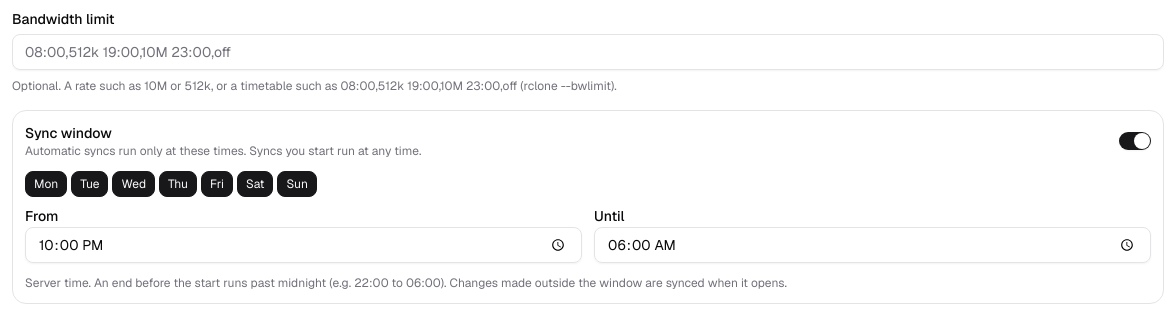
it: SyncLimitsFields sync window › refuses a window that starts when it ends
This screenshot has width=1176, height=321.
Replace the text in the time field labelled "From" with "06:00": (304,245) [25,227,582,263]
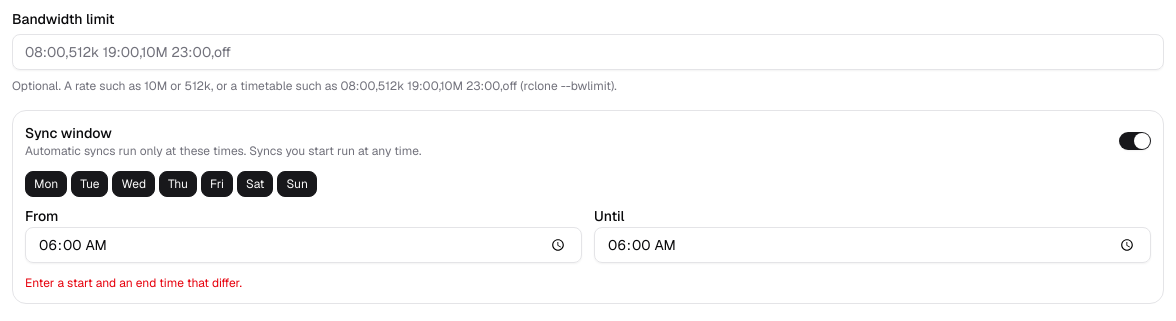
Check: the text "Enter a start and an end time that differ." is shown, box [25,275,242,291]
Replace the text in the time field labelled "Until" with "07:00": (872,245) [594,227,1151,263]
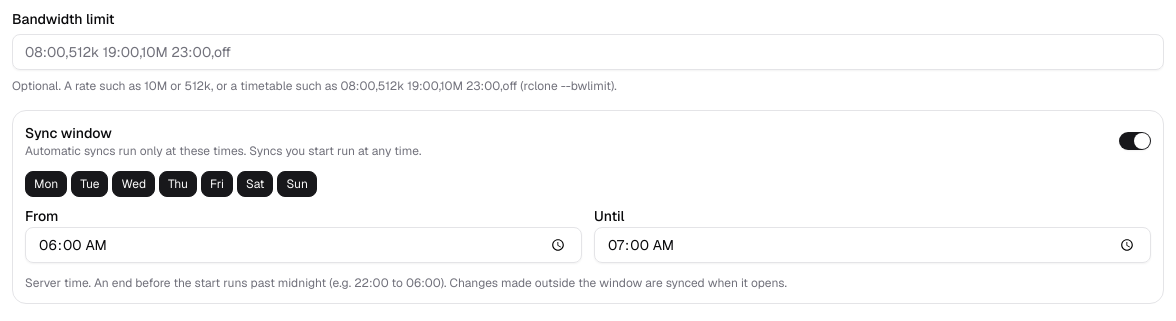
Check: the text "Enter a start and an end time that differ." is gone
